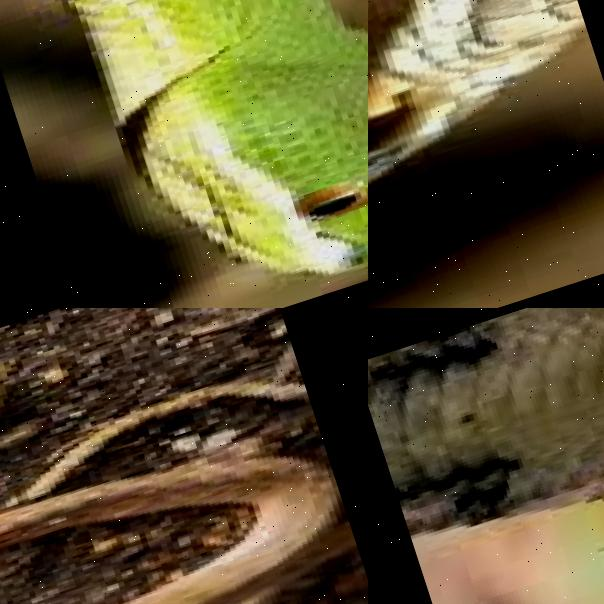snake: (0, 0, 368, 308), (0, 308, 368, 604), (368, 0, 604, 308), (368, 308, 604, 604)
